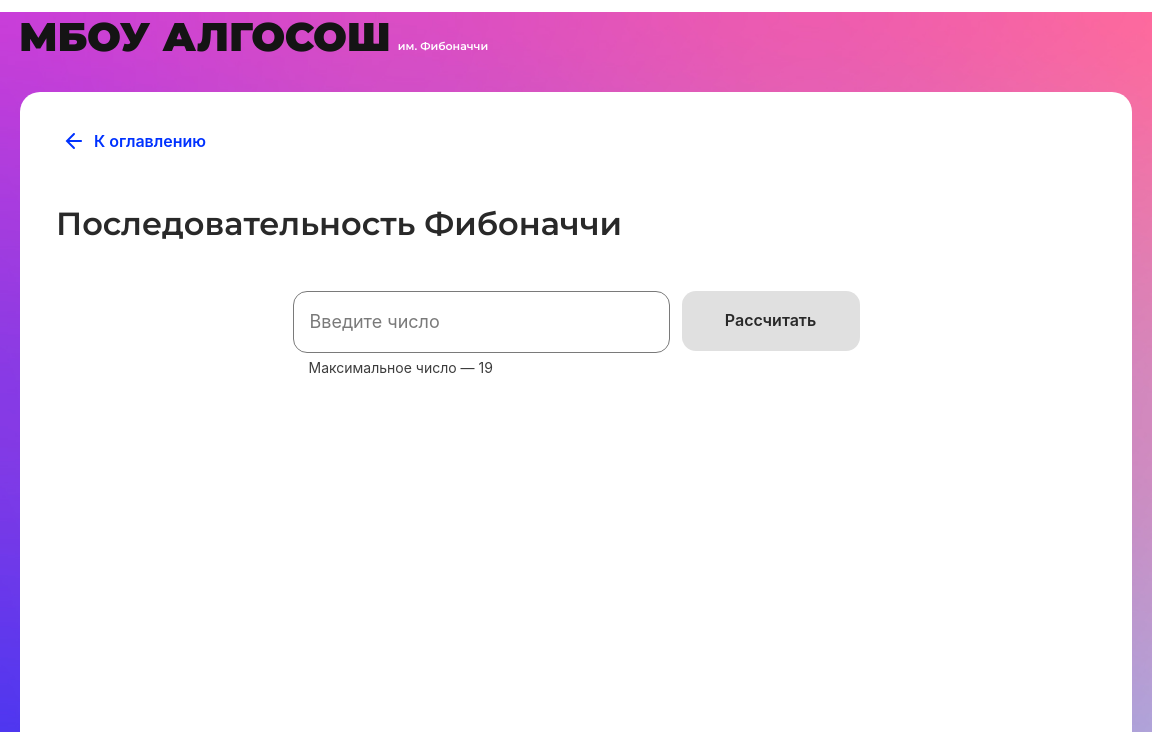
Test: Фибоначчи › если в инпуте пусто, кнопка "Рассчитать" недоступна
Expected: the button "Рассчитать" is disabled, left=682, top=291, right=860, bottom=351
In the number field with placeholder "Введите число": (482, 322) left=293, top=291, right=670, bottom=353, type "19"
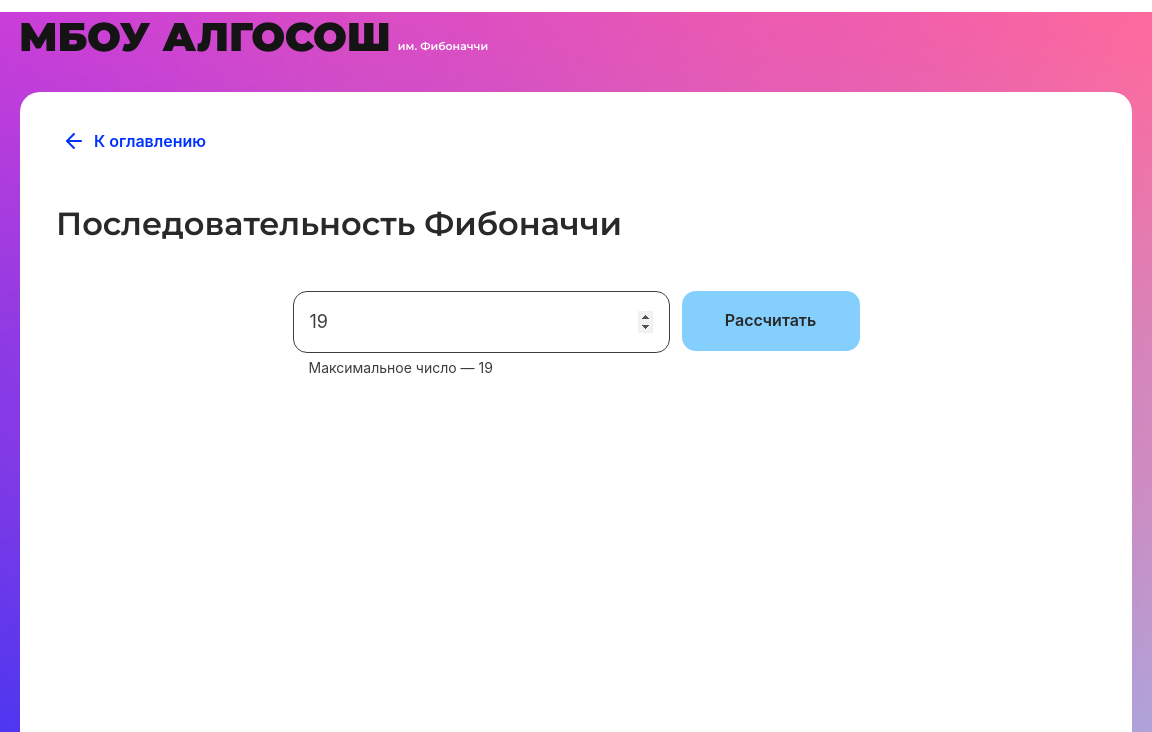
Expected: the button "Рассчитать" is enabled, left=682, top=291, right=860, bottom=351
